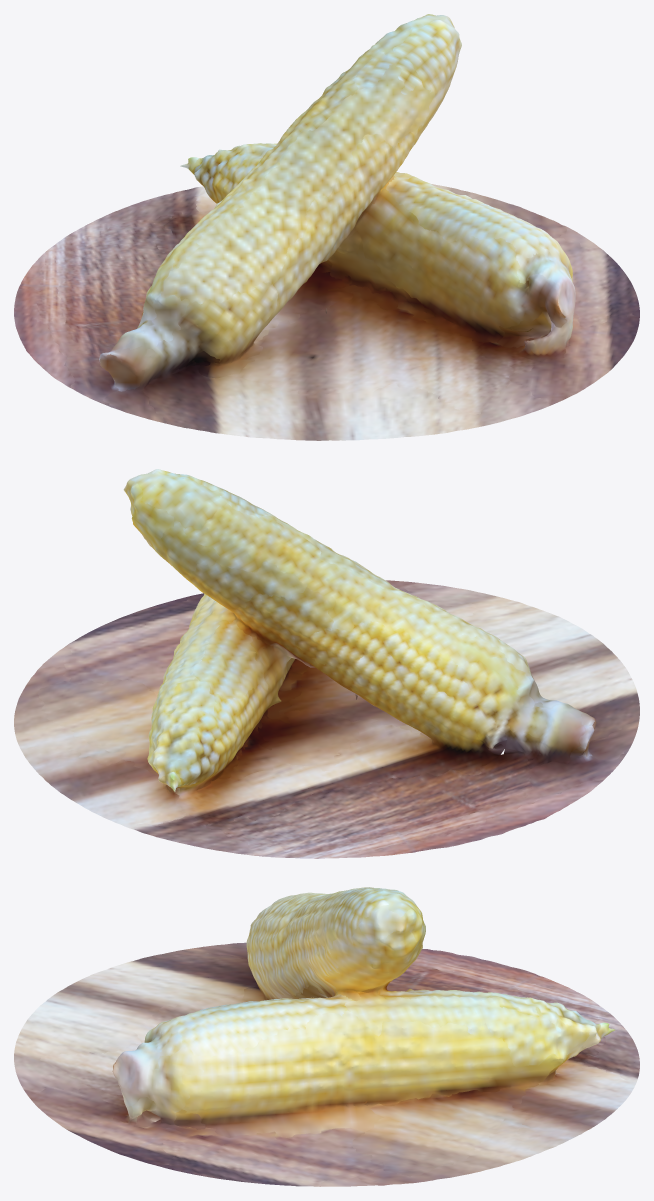
3 views of the same model, one above another, from view 1: azimuth 30°, elevation 25°; view 2: azimuth 150°, elevation 25°; view 3: azimuth 270°, elevation 25° (orthographic). The views are drawn at different scales.
Visible parts, largest first — view 1: Object_2, Object_3; view 2: Object_2, Object_3; view 3: Object_3, Object_2.
Part boxes in pixels (<box>): Object_2: <box>14,14,639,440</box>; Object_3: <box>14,125,639,425</box>; Object_2: <box>21,469,639,858</box>; Object_3: <box>14,580,639,857</box>; Object_3: <box>24,912,583,1186</box>; Object_2: <box>14,887,639,1186</box>.
Bounding box in the file's own units: 0.2695 × 0.1169 × 0.2826.
1 material, 1 textured.
